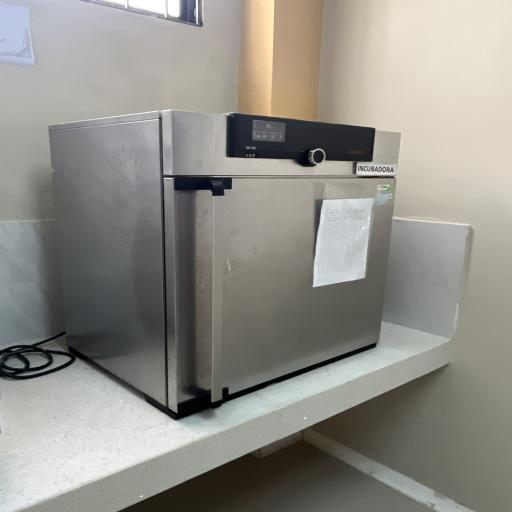Incubadora: (42, 100, 412, 424)
